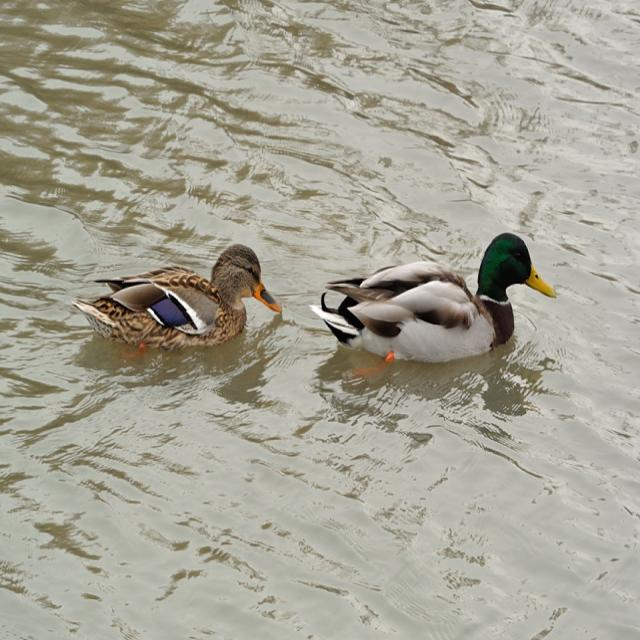bird: (310, 218, 564, 392), (74, 225, 290, 369)
